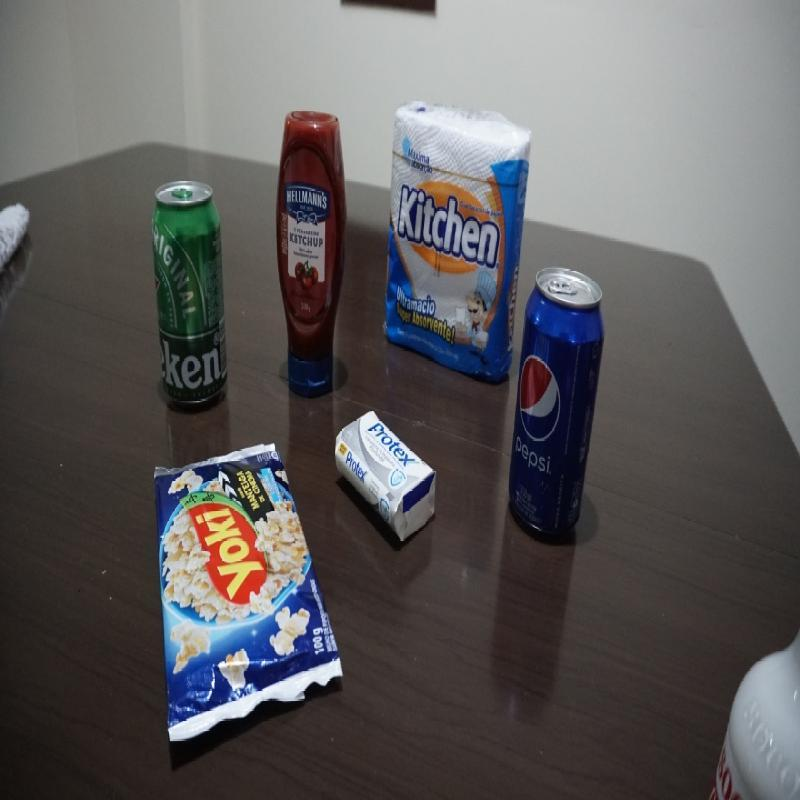Beer can: (153, 178, 228, 416)
Coconut Milk: (707, 623, 800, 799)
Ketchup: (275, 105, 350, 407)
Napkin: (381, 98, 532, 384)
Popcorn: (150, 442, 344, 746)
Soap: (335, 409, 440, 552)
Soda can: (504, 264, 606, 545)
